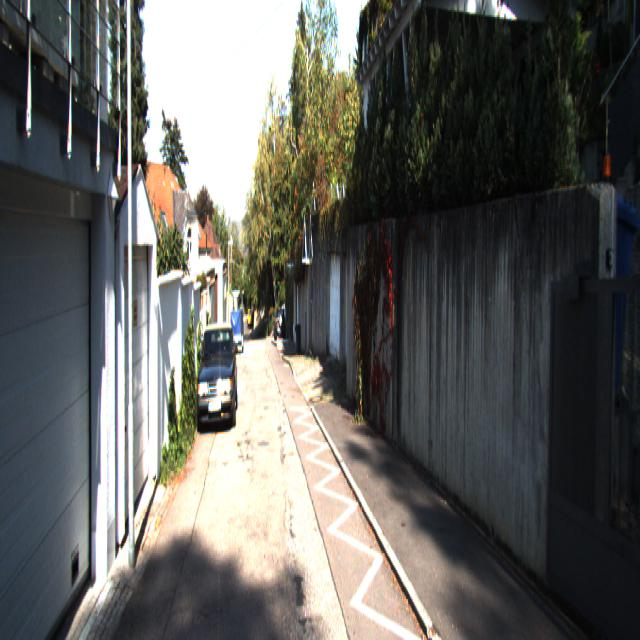Car: (196, 321, 239, 440), (232, 309, 245, 357), (274, 309, 287, 343)
